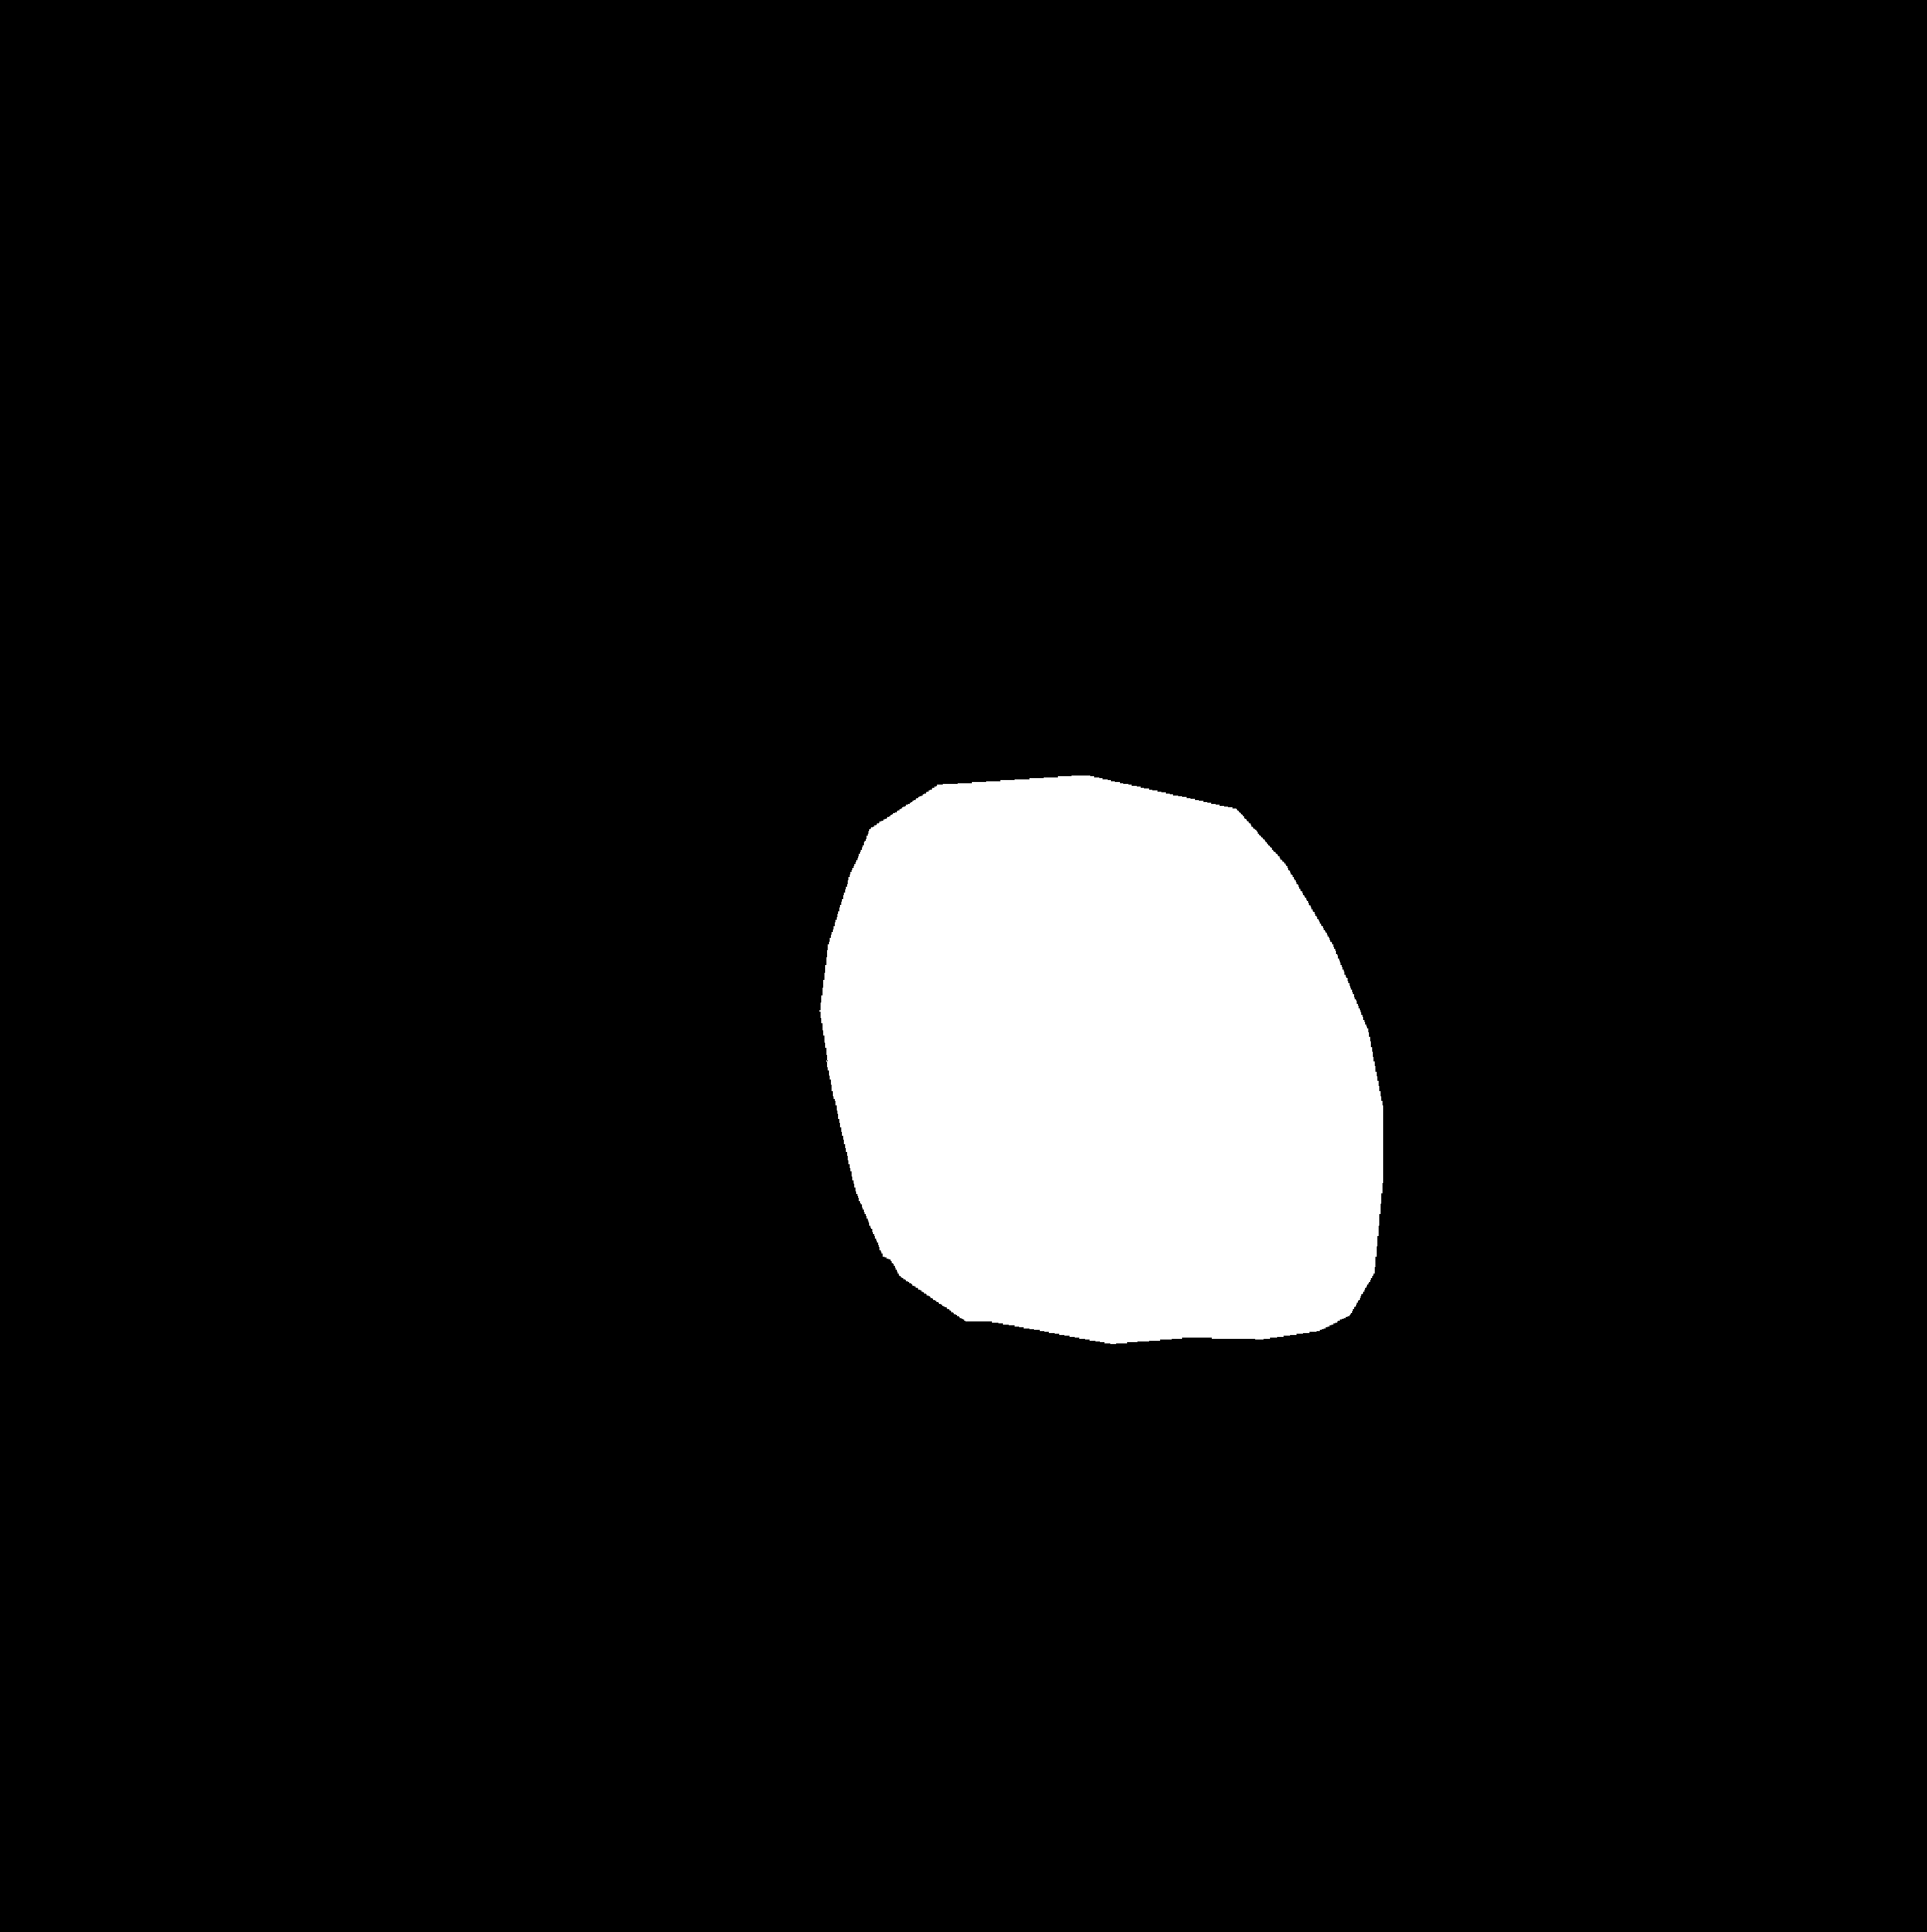heart: (815, 835, 1380, 1389)
left_lung: (335, 182, 900, 1531)
right_lung: (1064, 175, 1645, 1493)
